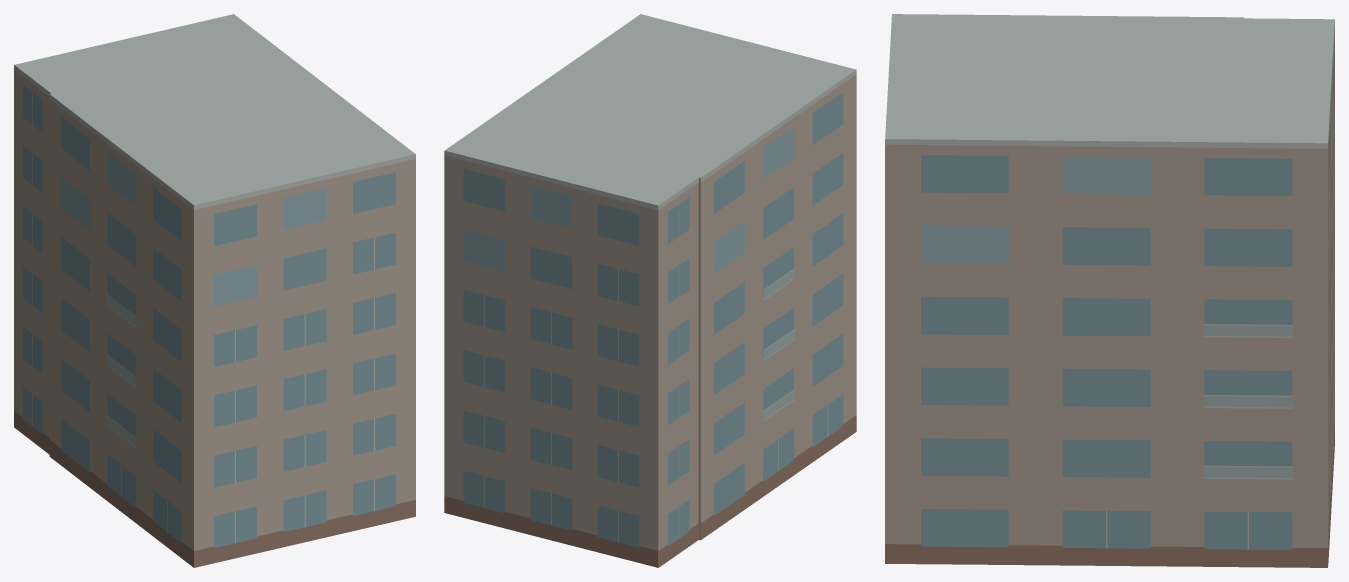
Rendered from survey-upis-32654384.glb.
The picture shows the model from 3 angles, left to right: view 1: azimuth 30°, elevation 25°; view 2: azimuth 150°, elevation 25°; view 3: azimuth 270°, elevation 25°; orthographic projection. The views are drawn at different scales.
Parts seen in each view (by area): view 1: survey-upis-32654384.tmp; view 2: survey-upis-32654384.tmp; view 3: survey-upis-32654384.tmp.
Part boxes in pixels (<box>): survey-upis-32654384.tmp: <box>14,14,415,567</box>; survey-upis-32654384.tmp: <box>444,14,856,567</box>; survey-upis-32654384.tmp: <box>885,14,1334,567</box>.
Size of the model in its own units: 12.09 by 18.5 by 17.77.
